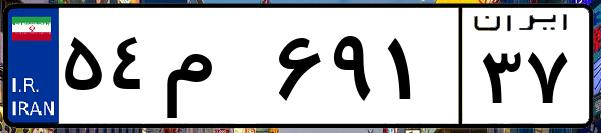1: (385, 28, 445, 110)
3: (475, 38, 525, 113)
4: (110, 28, 158, 98)
5: (57, 26, 110, 100)
6: (270, 28, 330, 110)
7: (525, 38, 570, 115)
9: (330, 28, 385, 110)
م: (158, 20, 270, 120)
